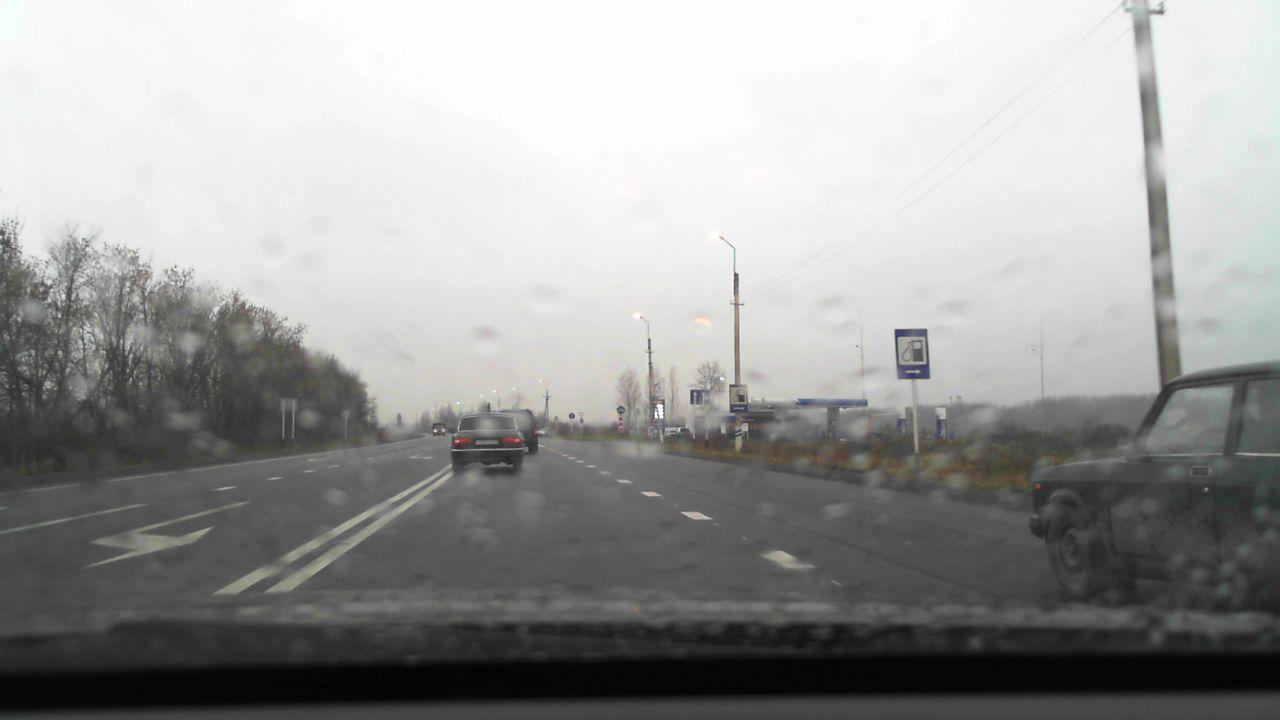4_2_3: (616, 404, 626, 415)
5_15_1: (690, 390, 710, 404)
7_3: (894, 328, 930, 379), (729, 382, 749, 413)
8_22_3: (618, 416, 624, 432)
